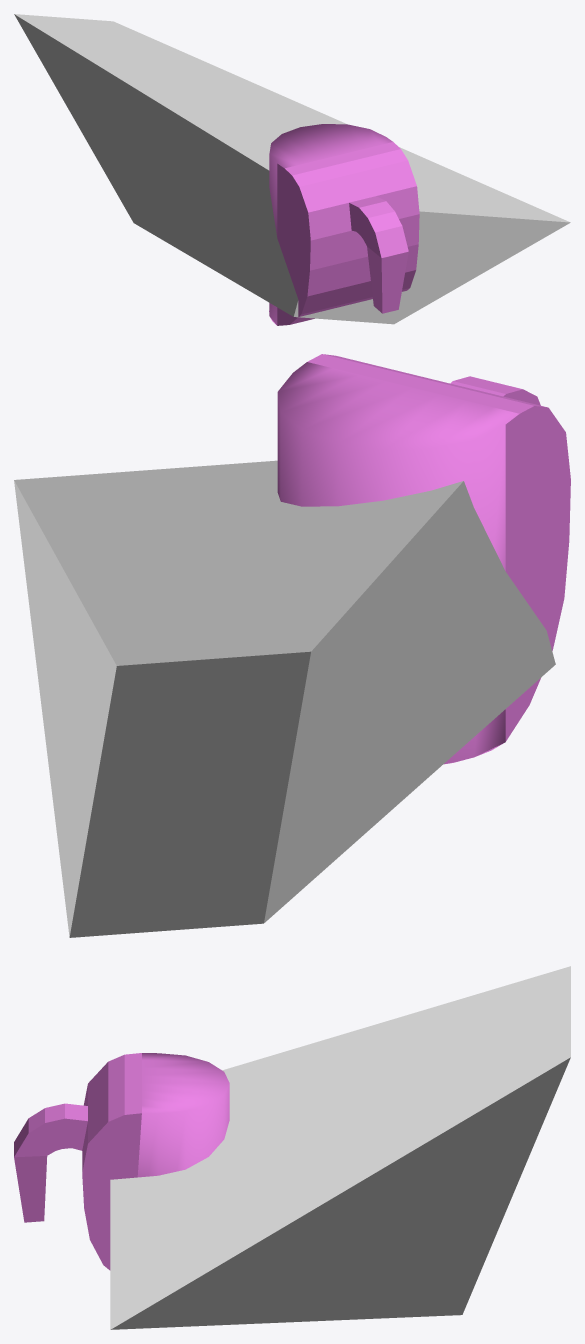
The model's file is jarra.gltf.
3 views of the same model, one above another, from view 1: azimuth 30°, elevation 25°; view 2: azimuth 150°, elevation 25°; view 3: azimuth 270°, elevation 25° (orthographic). The views are drawn at different scales.
Visible parts, largest first — view 1: Cube, Plane.001; view 2: Cube, Plane.001; view 3: Cube, Plane.001.
Part boxes in pixels (<box>): Cube: <box>14,14,570,324</box>; Plane.001: <box>269,124,419,325</box>; Cube: <box>14,460,555,937</box>; Plane.001: <box>277,354,570,764</box>; Cube: <box>110,966,570,1329</box>; Plane.001: <box>14,1053,229,1270</box>.
Bounding box in the file's own units: 6.75 × 4.06 × 8.08.
